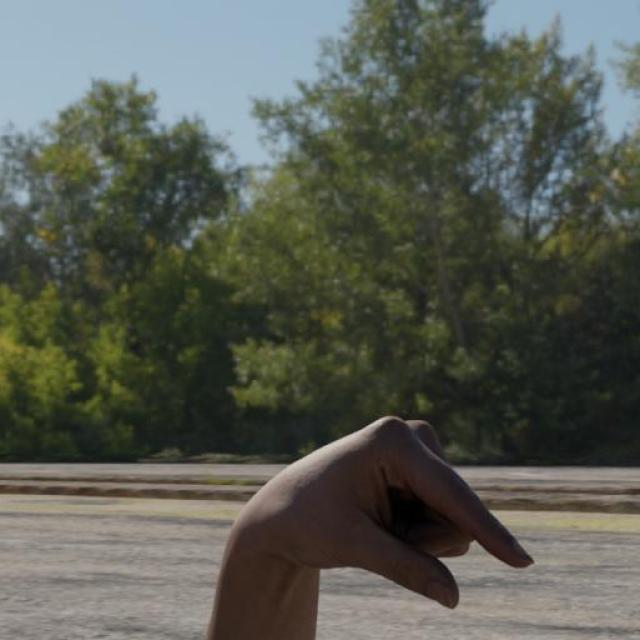Q: (214, 410, 543, 616)
